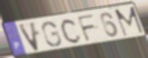6: (100, 11, 120, 38)
C: (60, 18, 84, 45)
F: (76, 13, 98, 43)
G: (41, 20, 63, 48)
M: (114, 5, 146, 38)
V: (16, 21, 42, 54)
